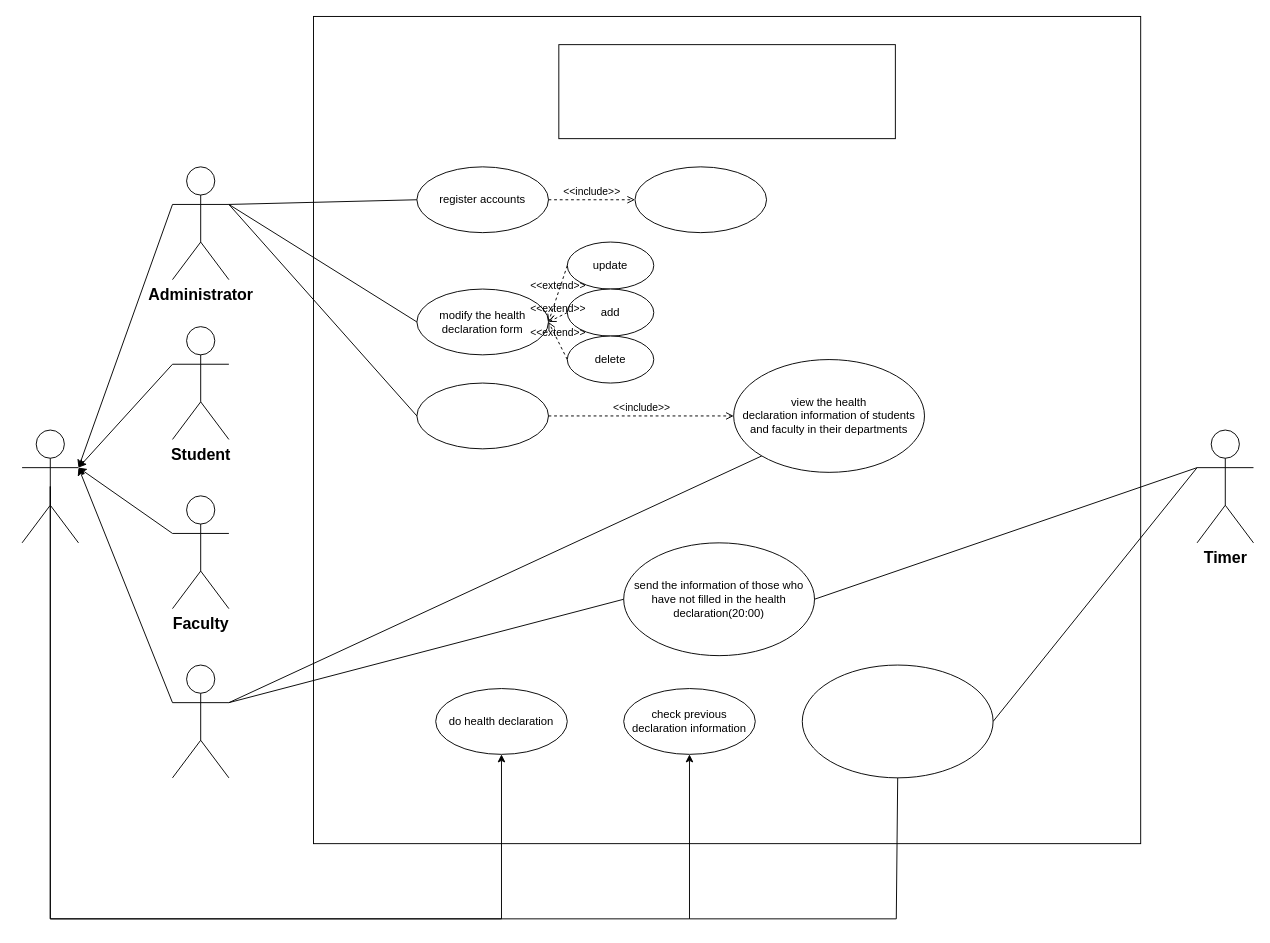
This 1270x943 diagram has some shape labels left out. Each missing label, with the box of its shape:
Administrative Staff: (172, 664, 229, 778)
enter the basic information of the personenel: (634, 166, 767, 233)
Health Declaration System: (558, 44, 895, 139)
remind those who have not yet submitted a health declaration (12:30 and 16:30): (801, 664, 993, 778)
SUSTech Member: (21, 429, 78, 543)
view the health declaration information: (416, 382, 548, 449)
